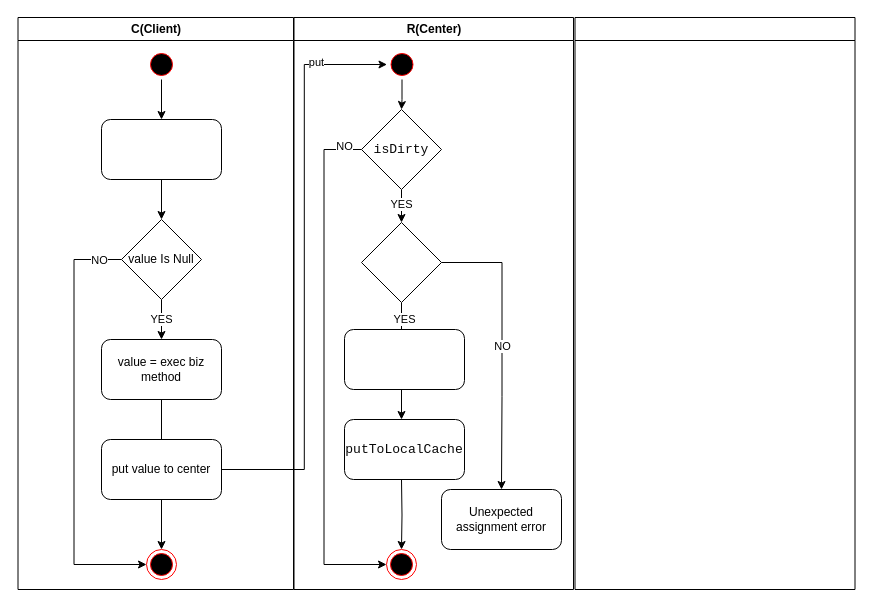
The diagram is 872 pixels wide and 607 high, and some of its shapes have lost their labels. The centre of each missing label's shape, as x and y in pixels:
"clearDirty" belongs at (x=404, y=359).
"is Agreement Reached" belongs at (x=401, y=262).
"S(Source)" belongs at (x=714, y=303).
"value = Cache.get" belongs at (x=161, y=149).
